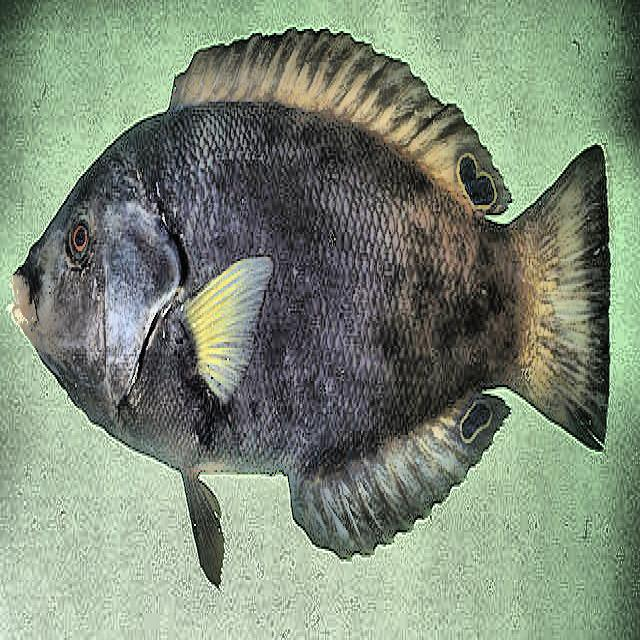fish: (7, 29, 612, 594)
